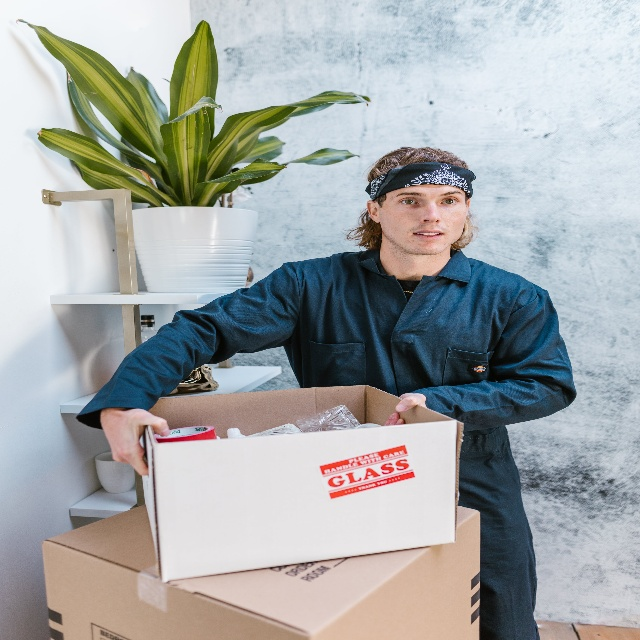Sin_guantes: (99, 408, 170, 477), (384, 393, 426, 426)
